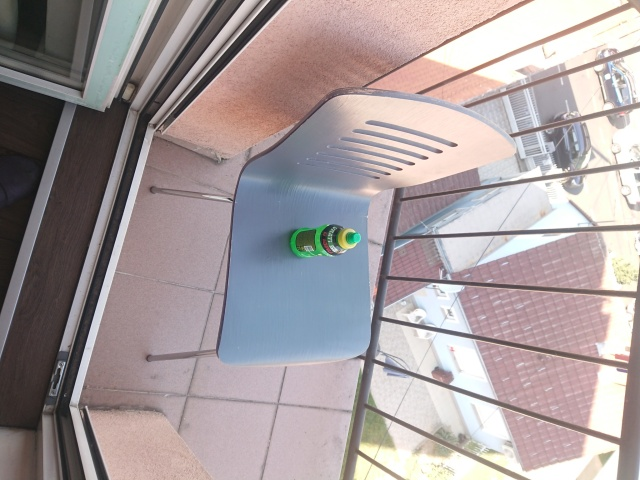Vindi Iso Sport Lemon-Grapefruit 500mL: (287, 222, 364, 261)
